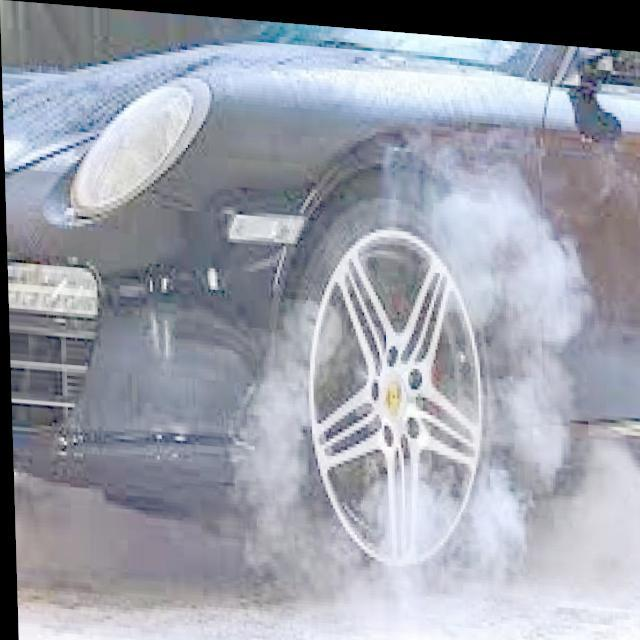Smoke: (226, 123, 640, 638)
